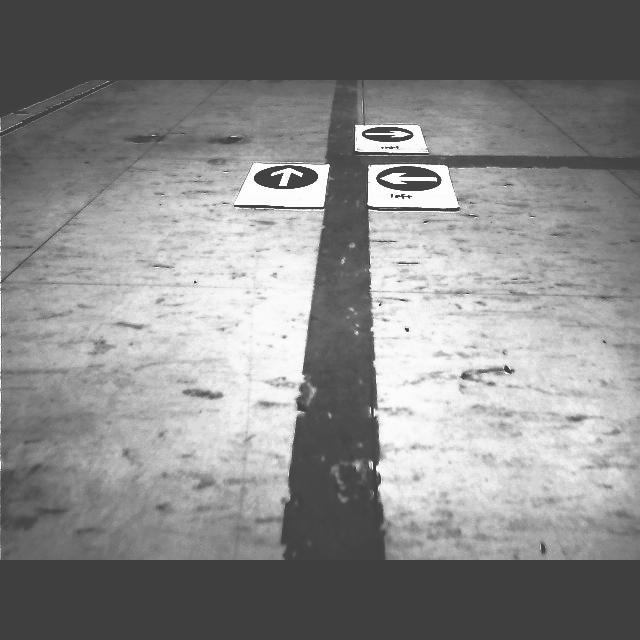GO FORWARD: (254, 165, 318, 189)
TURN LEFT: (376, 166, 442, 190)
TURN RIGHT: (363, 126, 415, 142)
